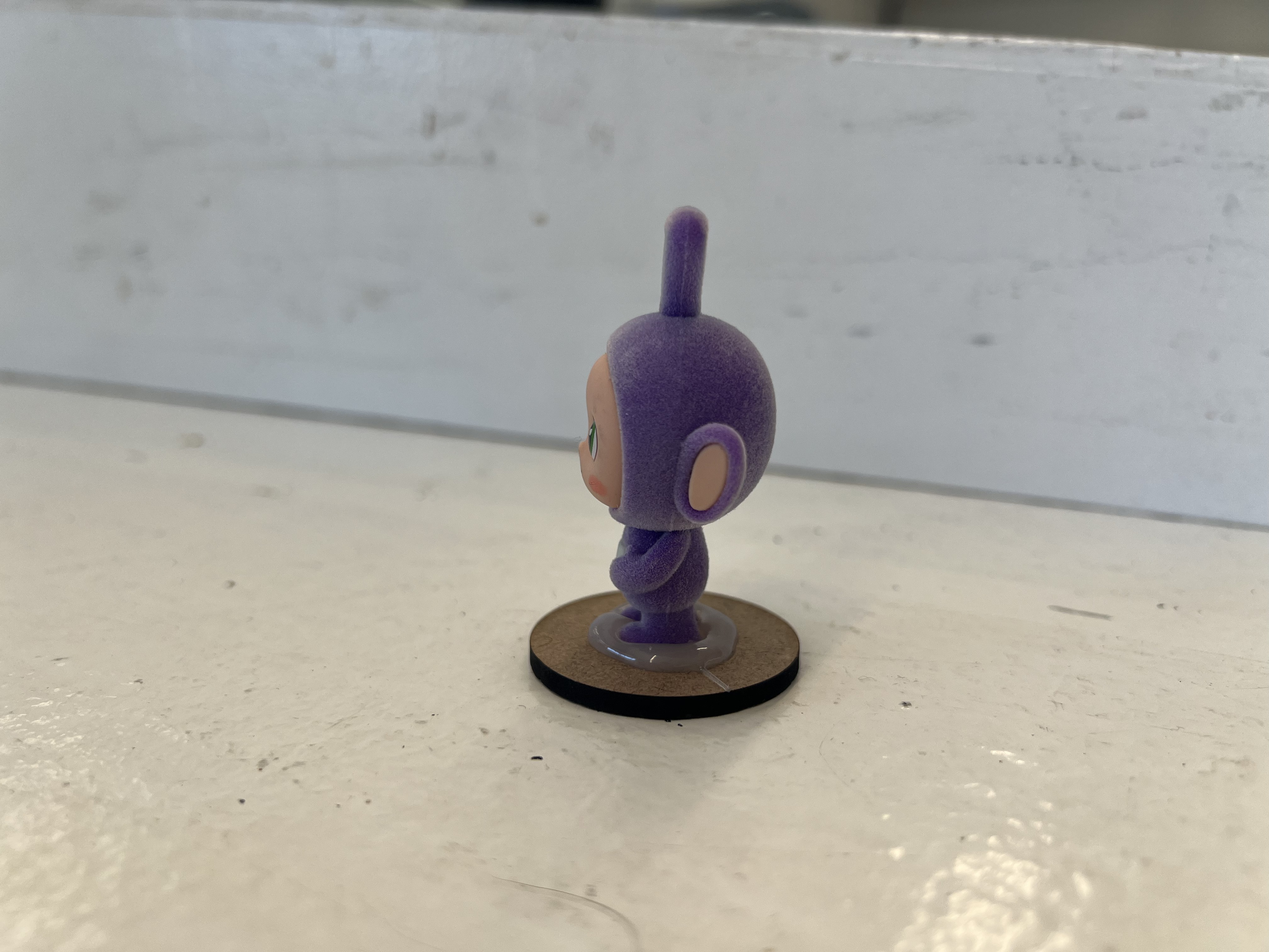teletubby: (578, 207, 776, 648)
